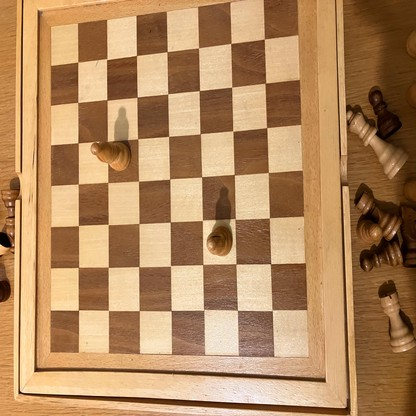bishop_white: (92, 143, 131, 170), (207, 226, 233, 256)
pawn_black: (368, 88, 401, 136), (360, 241, 402, 270)
pawn_white: (358, 217, 381, 244)
queen_white: (348, 108, 408, 179)
rock_black: (357, 190, 401, 239)
rock_white: (380, 291, 416, 353)
